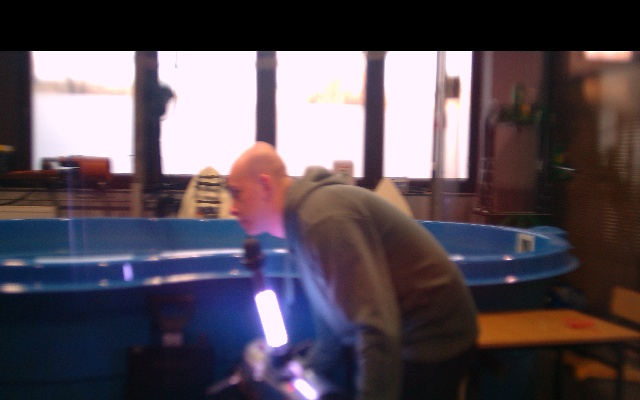white: (255, 290, 288, 348)
